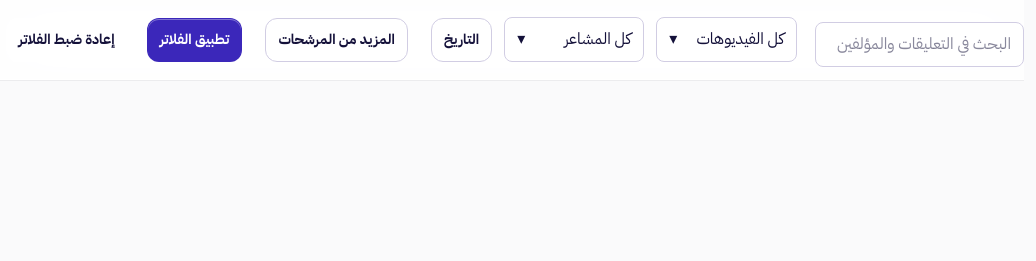
Test case: FilterBar › only displays sentiment options provided in the labels prop
Click the dropdown labelled "المشاعر".
click(574, 39)  # box [504, 17, 644, 62]
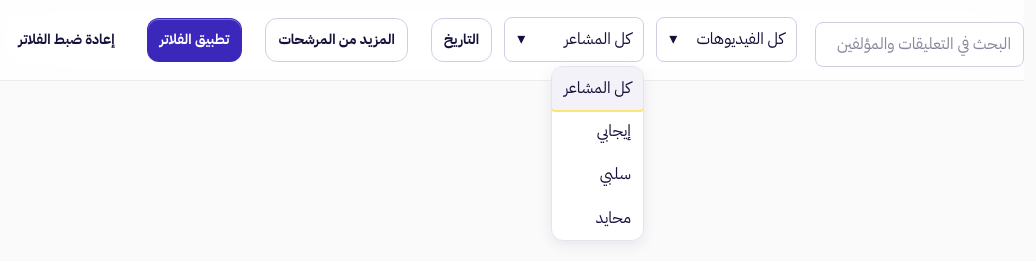
Result: the option "إيجابي" is shown at [597, 119, 631, 143]
Result: the option "سلبي" is shown at [600, 162, 631, 186]
Result: the option "محايد" is shown at [596, 206, 631, 230]
